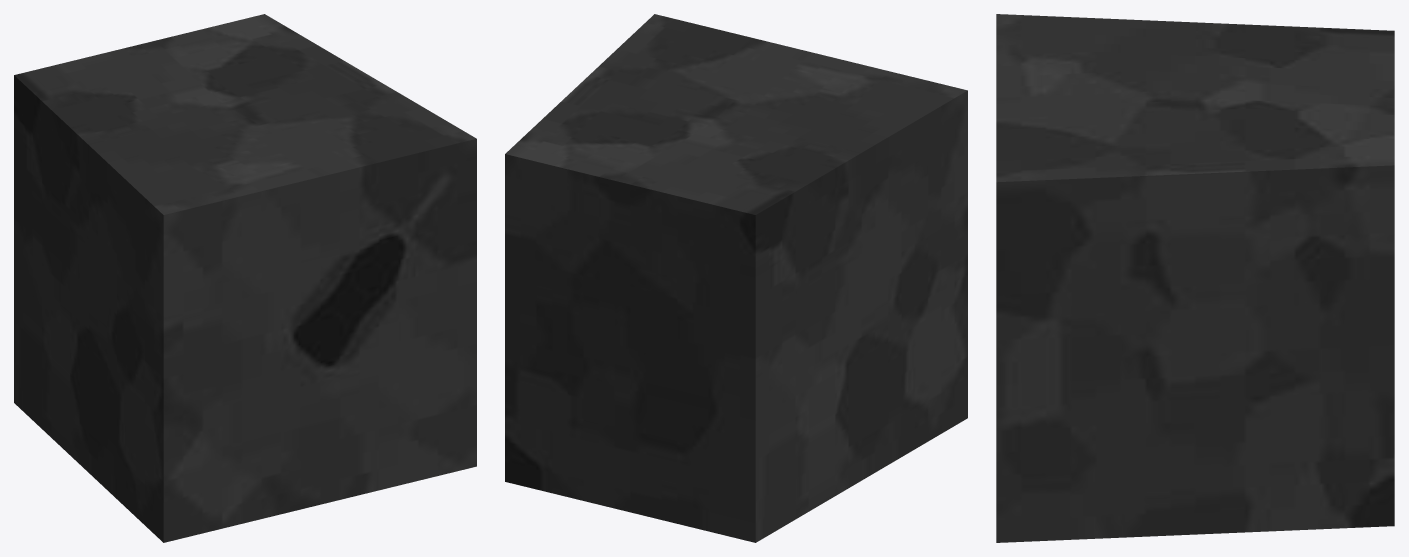
3 views of the same model, side by side, from view 1: azimuth 30°, elevation 25°; view 2: azimuth 150°, elevation 25°; view 3: azimuth 270°, elevation 25° (orthographic). The views are drawn at different scales.
Visible parts, largest first — view 1: TestCube; view 2: TestCube; view 3: TestCube.
Part boxes in pixels (x1,y1,x2,y2): TestCube: [14, 14, 476, 542]; TestCube: [505, 14, 967, 542]; TestCube: [996, 14, 1394, 542].
Bounding box in the file's own units: 4 × 4 × 4.
1 material, 1 textured.
